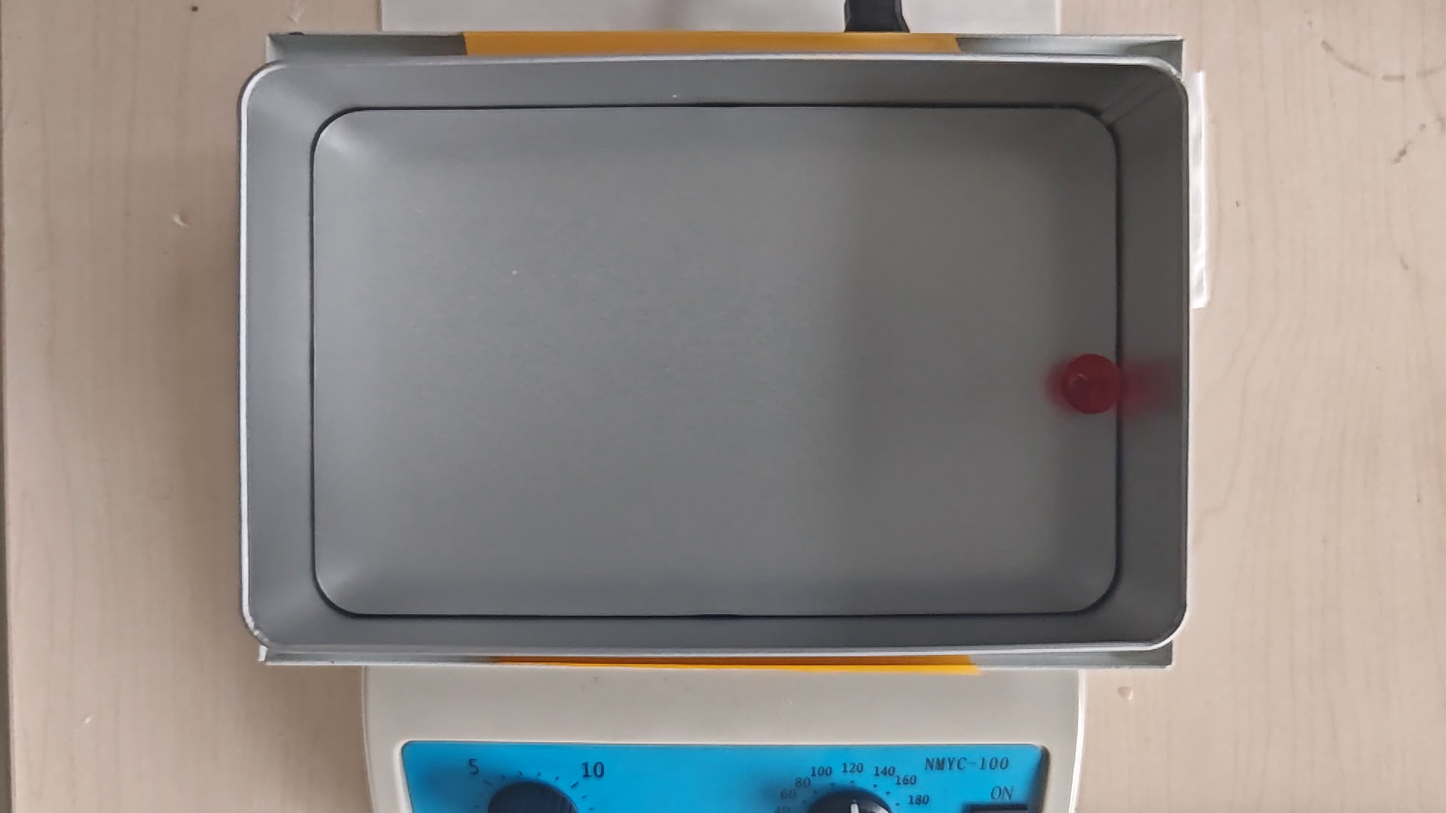ball: (1060, 354, 1122, 416)
container: (312, 105, 1121, 614)
